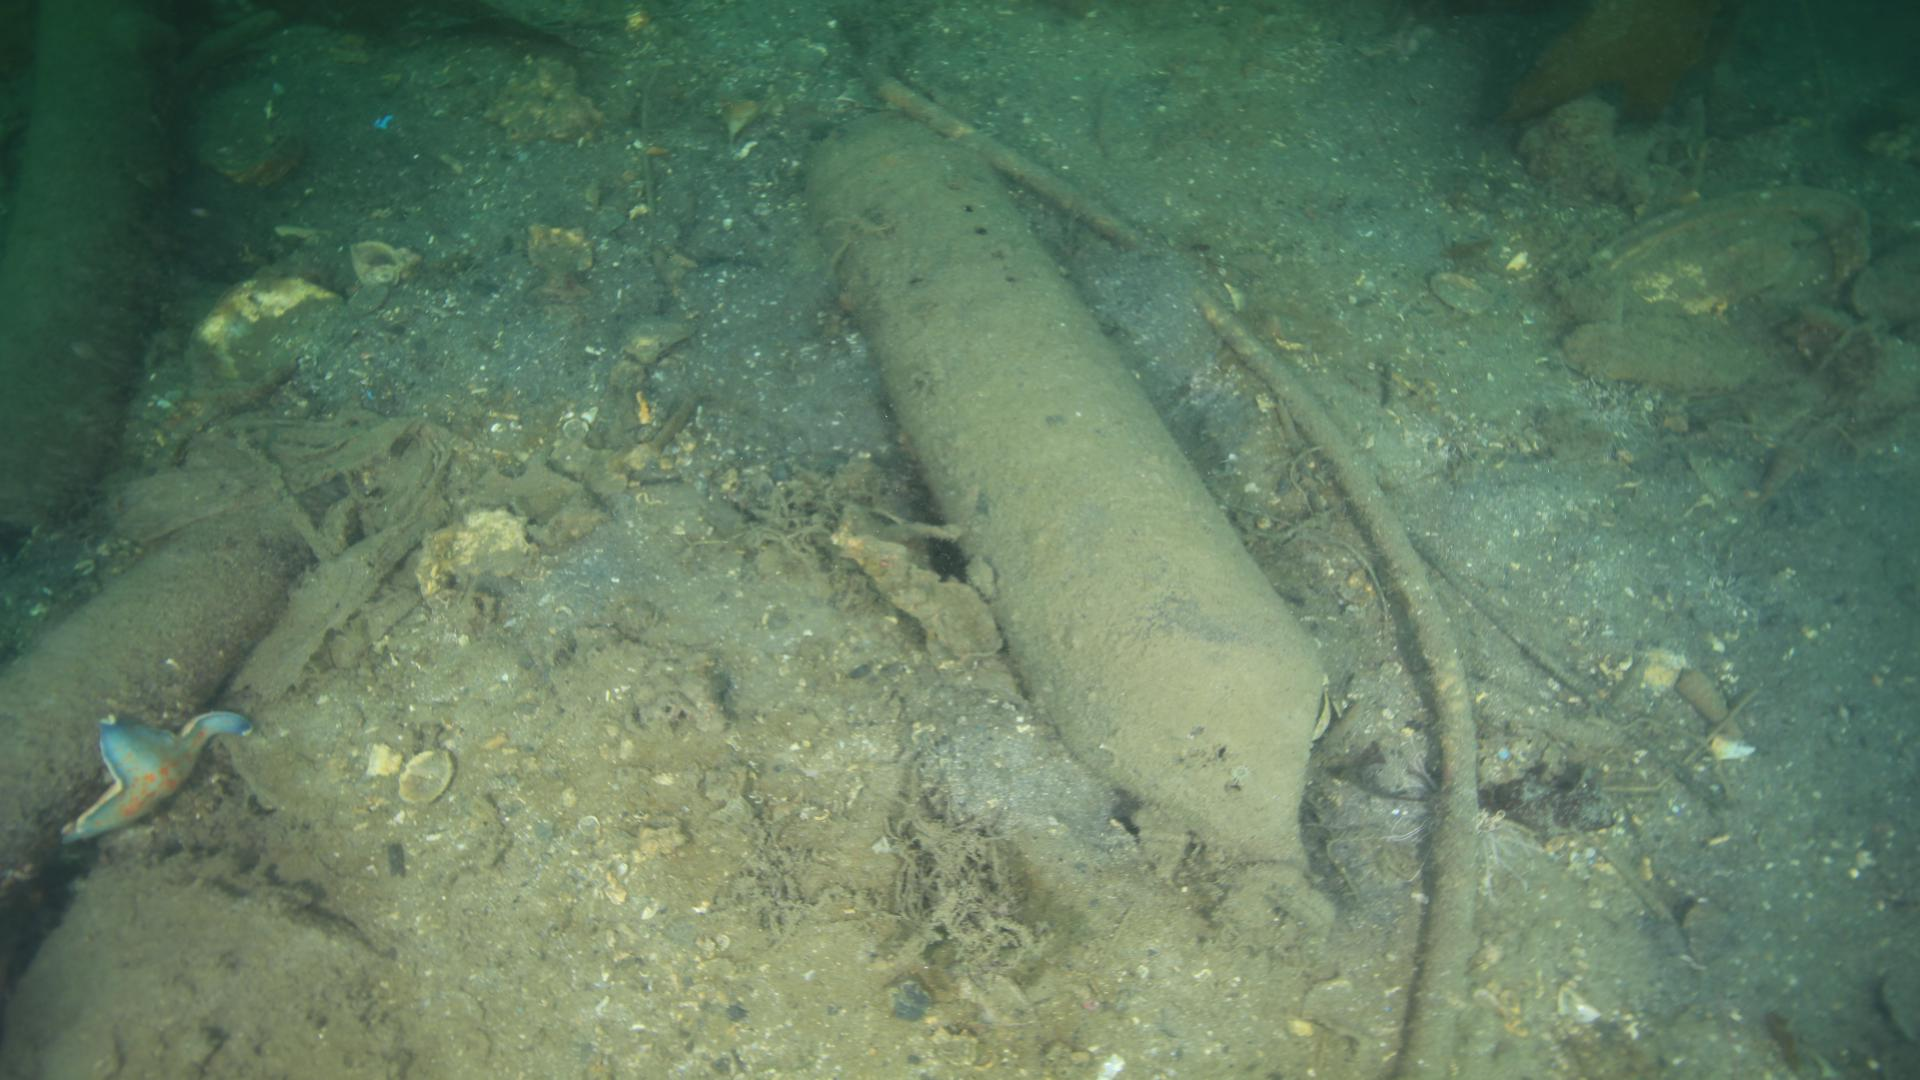eel fish trap: (799, 98, 1350, 861)
